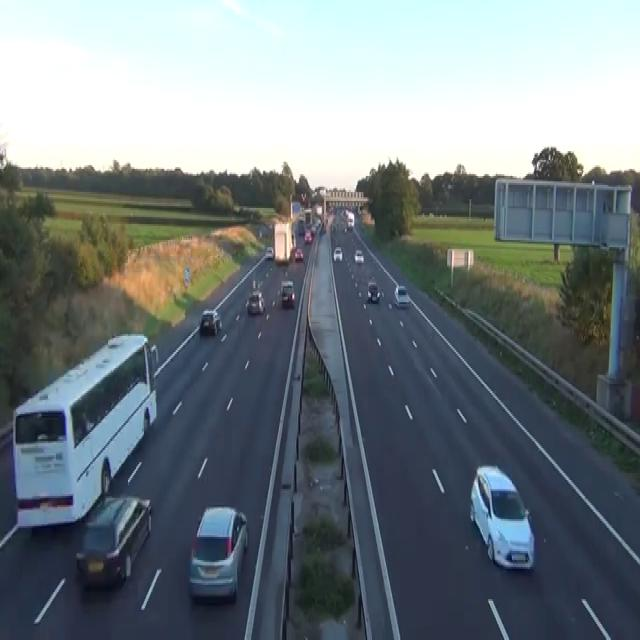Car: (75, 494, 152, 588), (469, 464, 535, 571), (188, 505, 248, 601), (200, 308, 222, 334), (245, 290, 265, 314), (280, 279, 295, 308), (394, 284, 409, 308), (331, 215, 347, 233), (367, 281, 379, 302), (333, 246, 342, 262), (296, 218, 305, 234), (354, 249, 364, 263), (258, 226, 269, 238), (294, 247, 303, 261), (265, 246, 274, 260), (313, 217, 321, 231), (304, 230, 312, 243), (310, 224, 316, 235), (330, 222, 336, 233), (291, 231, 295, 247), (347, 219, 353, 229), (321, 224, 326, 233), (258, 230, 262, 238)
Truck: (11, 331, 158, 528), (273, 219, 292, 263)
